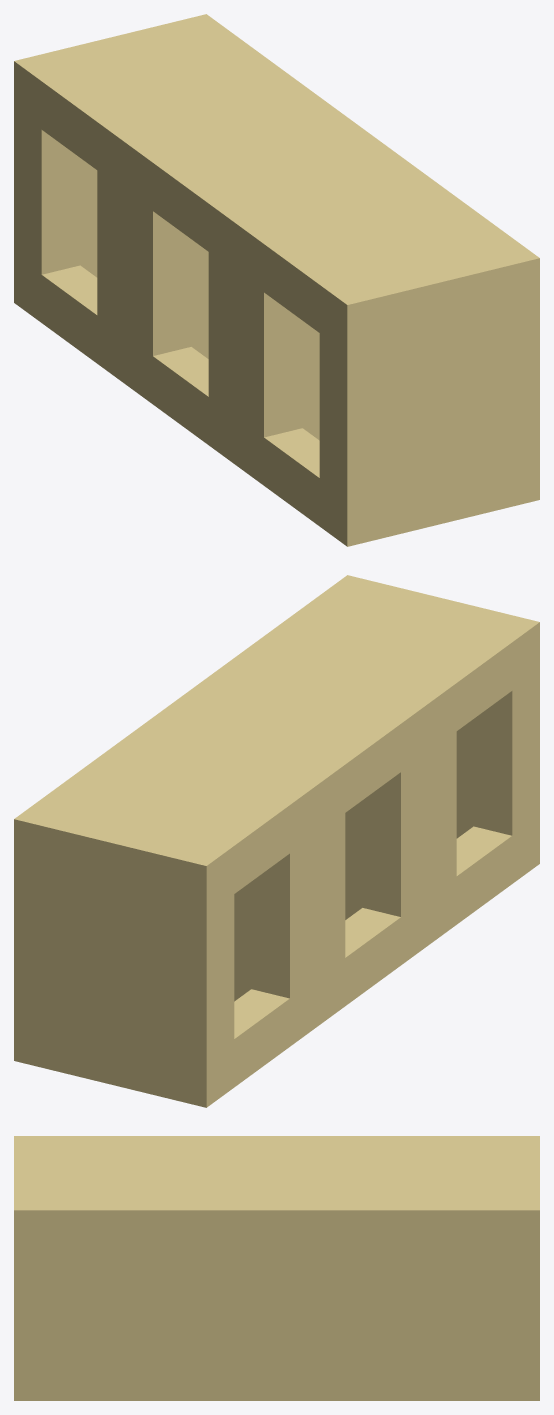
File: ThreeWindows.fbx
3 views of the same model, one above another, from view 1: azimuth 30°, elevation 25°; view 2: azimuth 150°, elevation 25°; view 3: azimuth 270°, elevation 25° (orthographic). The views are drawn at different scales.
Parts seen in each view (by area): view 1: window block.005, window block.003, window block.004; view 2: window block.003, window block.005, window block.004; view 3: window block.003, window block.004, window block.005.
Part boxes in pixels (x1=…): window block.005: x1=236, y1=177, x2=539, y2=546; window block.003: x1=14, y1=14, x2=317, y2=383; window block.004: x1=125, y1=95, x2=428, y2=464; window block.003: x1=14, y1=738, x2=317, y2=1107; window block.005: x1=236, y1=575, x2=539, y2=944; window block.004: x1=125, y1=656, x2=428, y2=1025; window block.003: x1=364, y1=1136, x2=539, y2=1400; window block.004: x1=189, y1=1136, x2=364, y2=1400; window block.005: x1=14, y1=1136, x2=189, y2=1400.
Size of the model in its own units: 1000 by 1200 by 3000.
